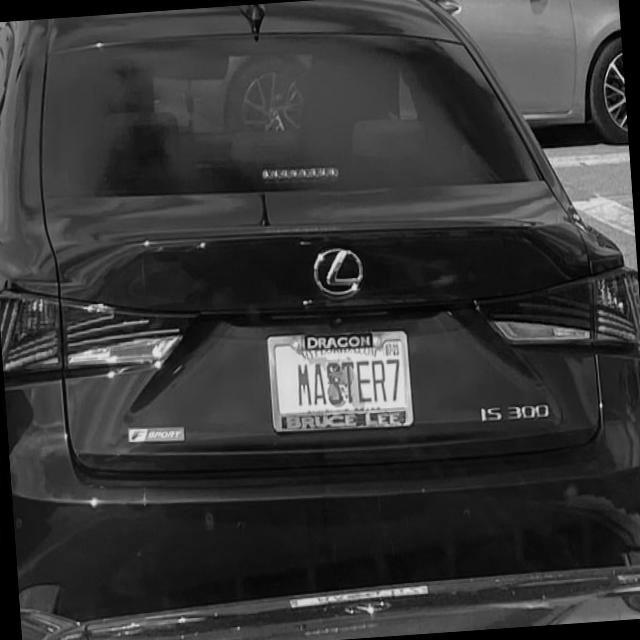LicensePlate: (266, 328, 413, 434)
